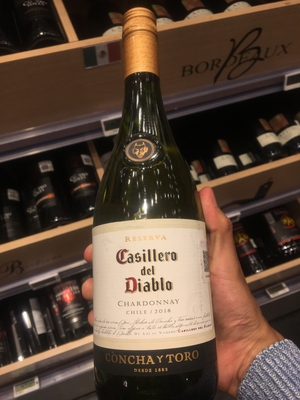casillero del diablo chardonnay: (85, 9, 222, 400)
